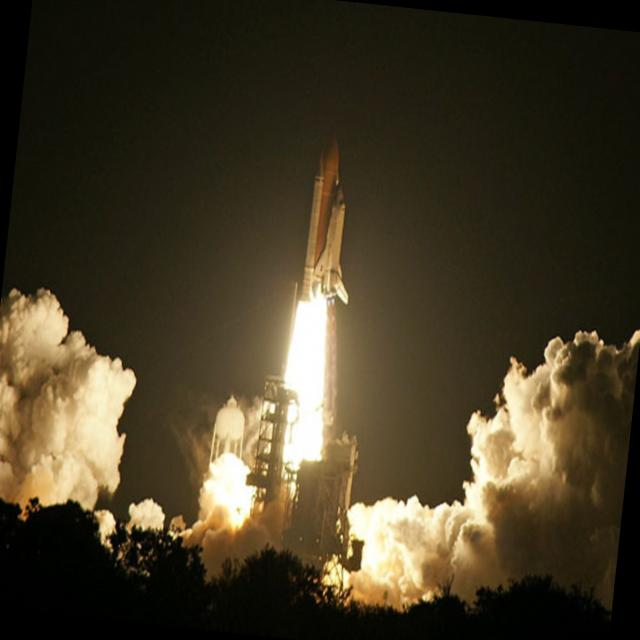rocket: (278, 129, 362, 469)
